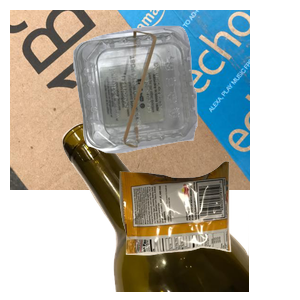cardboard: (10, 10, 250, 190)
glass: (60, 120, 300, 300)
plastic: (71, 23, 300, 169)
trash: (117, 159, 300, 300)
